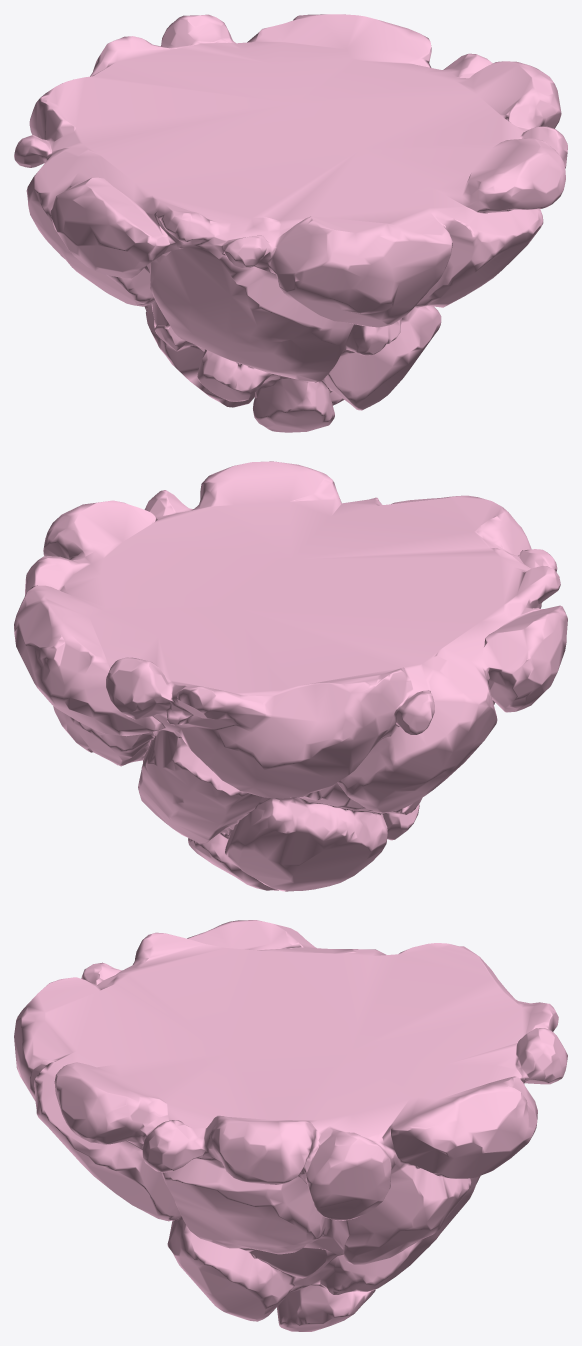
File: island_5_LOD2.fbx
The picture shows the model from 3 angles, top to bottom: view 1: azimuth 30°, elevation 25°; view 2: azimuth 150°, elevation 25°; view 3: azimuth 270°, elevation 25°; orthographic projection. The views are drawn at different scales.
Visible parts, largest first — view 1: Island_5_LOD2; view 2: Island_5_LOD2; view 3: Island_5_LOD2.
Part boxes in pixels (box(x1,y1,x2,y2)): Island_5_LOD2: box(14, 14, 567, 432); Island_5_LOD2: box(14, 461, 567, 891); Island_5_LOD2: box(14, 920, 567, 1331).
Bounding box in the file's own units: 1510 × 917 × 1507.
